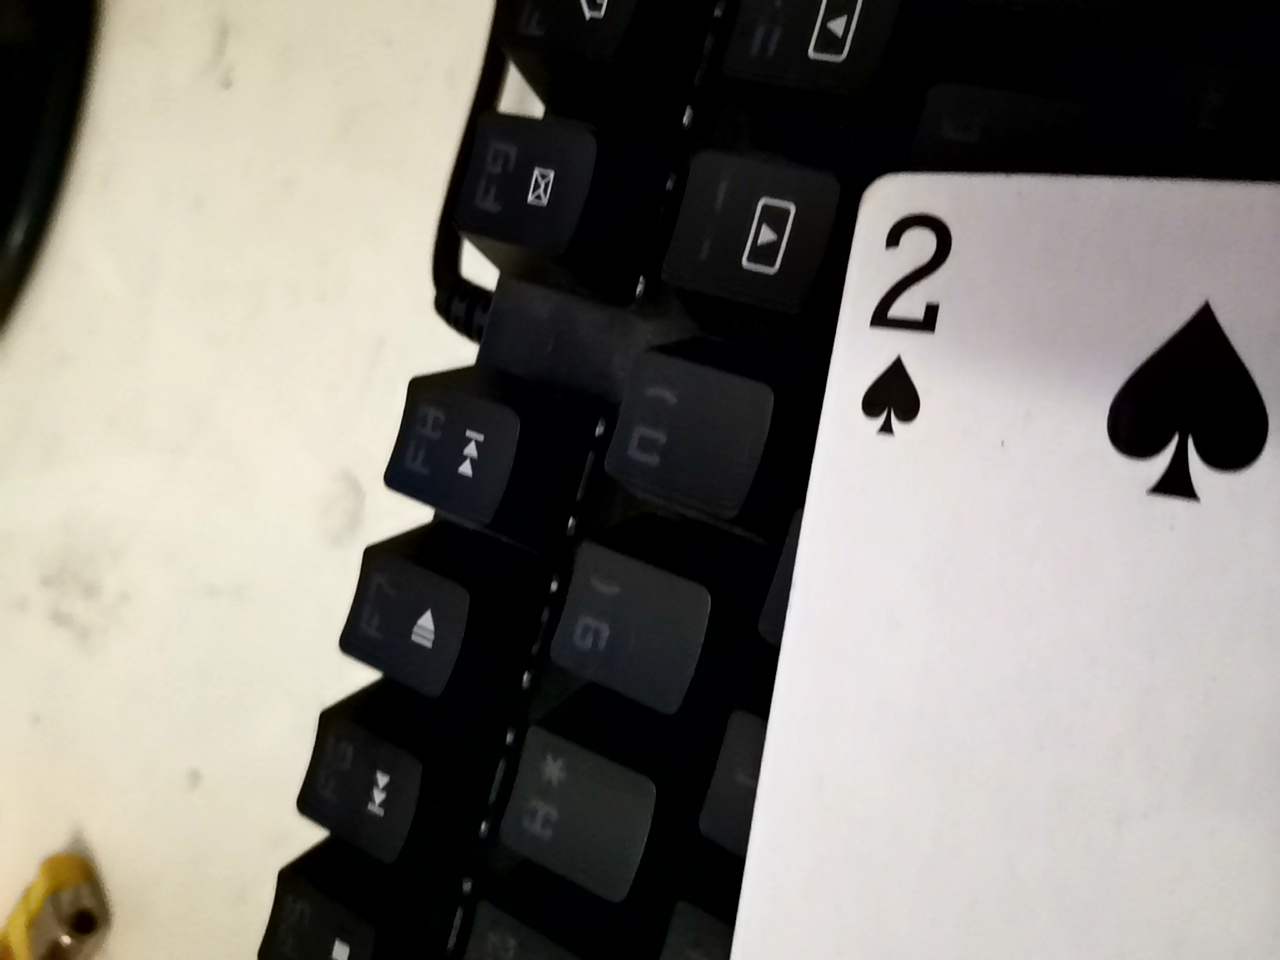ht 2: (647, 122, 1276, 954)
